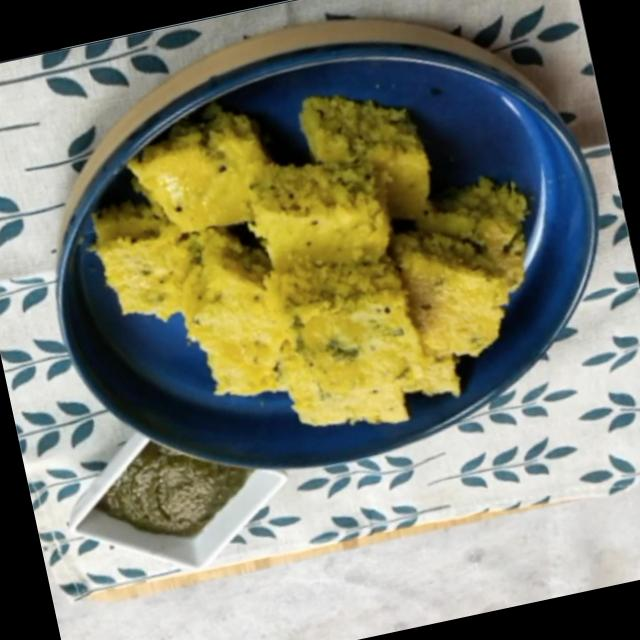dhokla: (69, 37, 579, 514)
